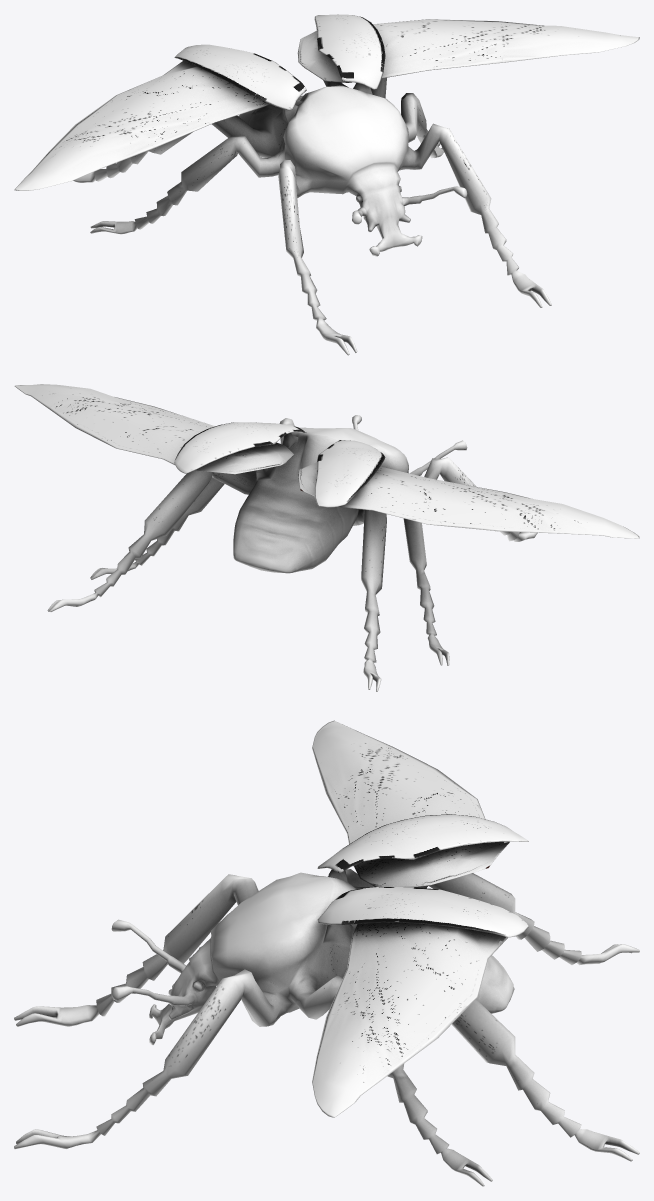
Rendered from Beetle goliath.obj.
The picture shows the model from 3 angles, top to bottom: view 1: azimuth 30°, elevation 25°; view 2: azimuth 150°, elevation 25°; view 3: azimuth 270°, elevation 25°; orthographic projection. The views are drawn at different scales.
Visible parts, largest first — view 1: Beetle_goliath_Cube.004; view 2: Beetle_goliath_Cube.004; view 3: Beetle_goliath_Cube.004.
Part boxes in pixels (<box>): Beetle_goliath_Cube.004: <box>14,14,639,355</box>; Beetle_goliath_Cube.004: <box>14,384,639,691</box>; Beetle_goliath_Cube.004: <box>14,720,639,1186</box>.
Bounding box in the file's own units: 5.48 × 1.43 × 3.65.
